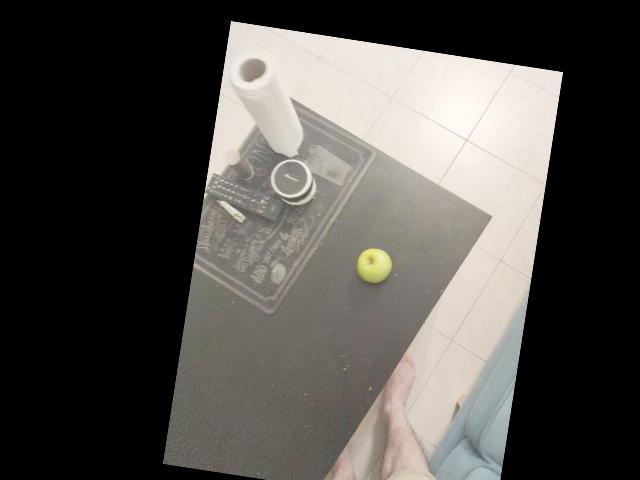apple: (404, 189, 446, 232)
